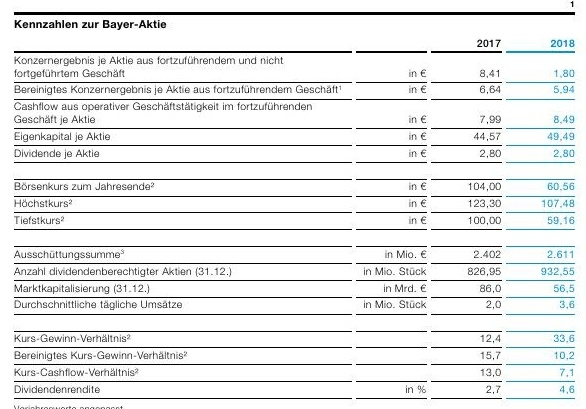table: (0, 0, 586, 409)
